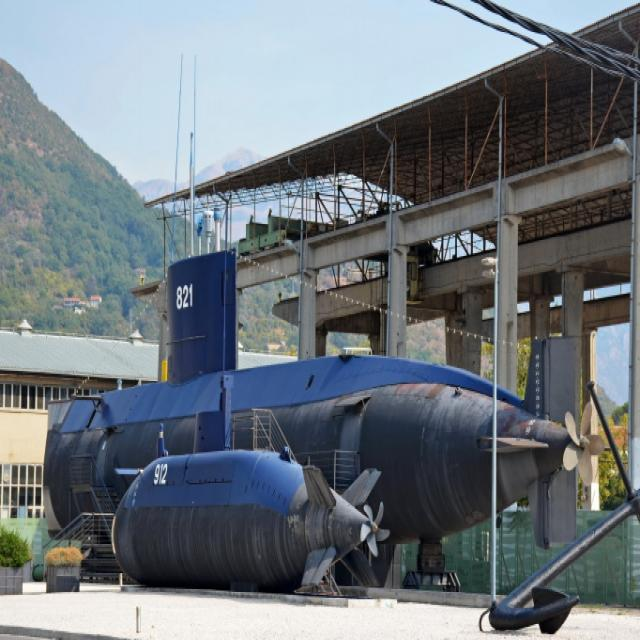submarine: (37, 231, 601, 565), (94, 449, 379, 594)
